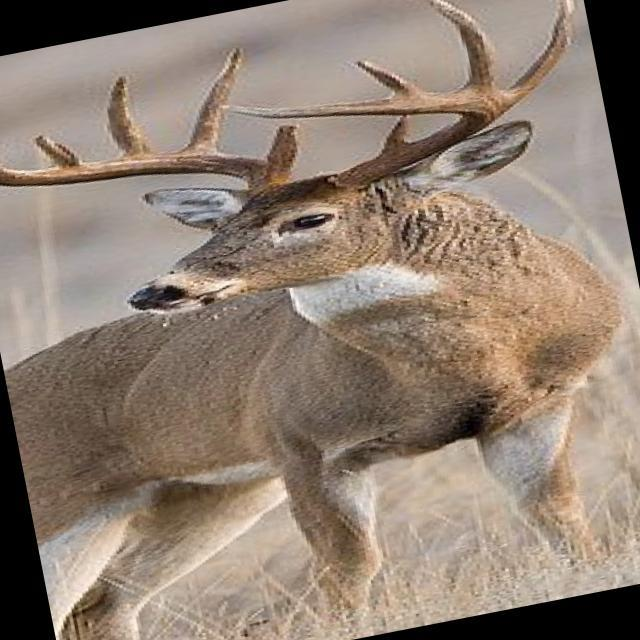L-F: (221, 90, 521, 189)
L-G1: (379, 117, 411, 155)
L-G2: (507, 0, 577, 99)
L-G3: (425, 0, 499, 90)
L-G4: (352, 60, 422, 95)
R-F: (0, 150, 296, 193)
R-G1: (265, 124, 299, 170)
R-G2: (184, 44, 245, 152)
R-G3: (108, 75, 154, 157)
R-G4: (33, 134, 83, 167)
